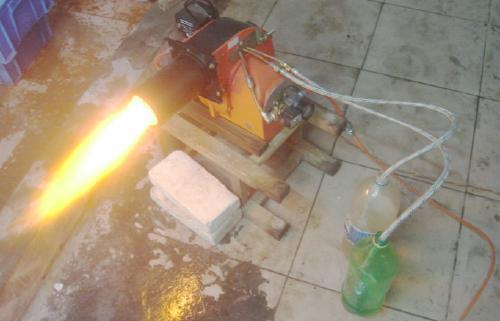fire: (22, 77, 158, 221)
